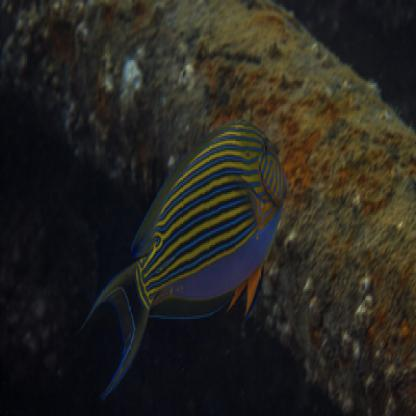Acanthuridae -Surgeonfishes-: (79, 119, 289, 403)
